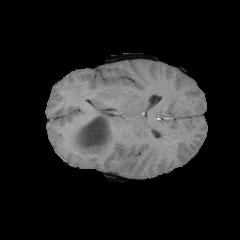glioma: (66, 105, 123, 159)
